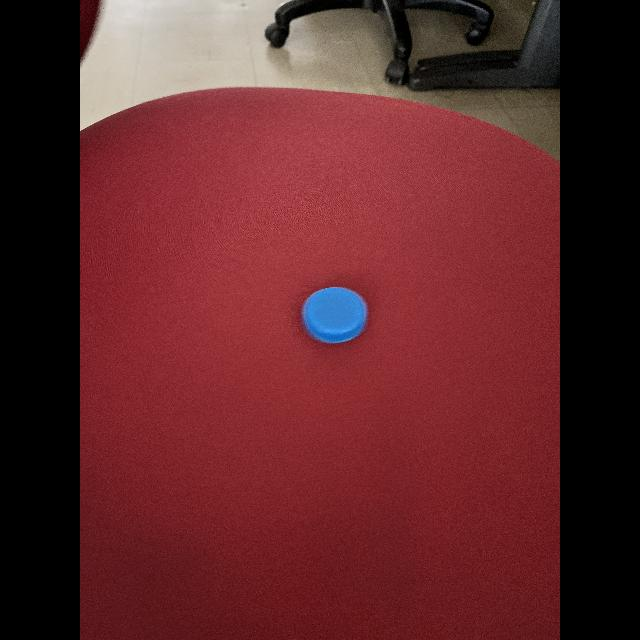plastic_bottle_cap: (294, 283, 374, 343)
